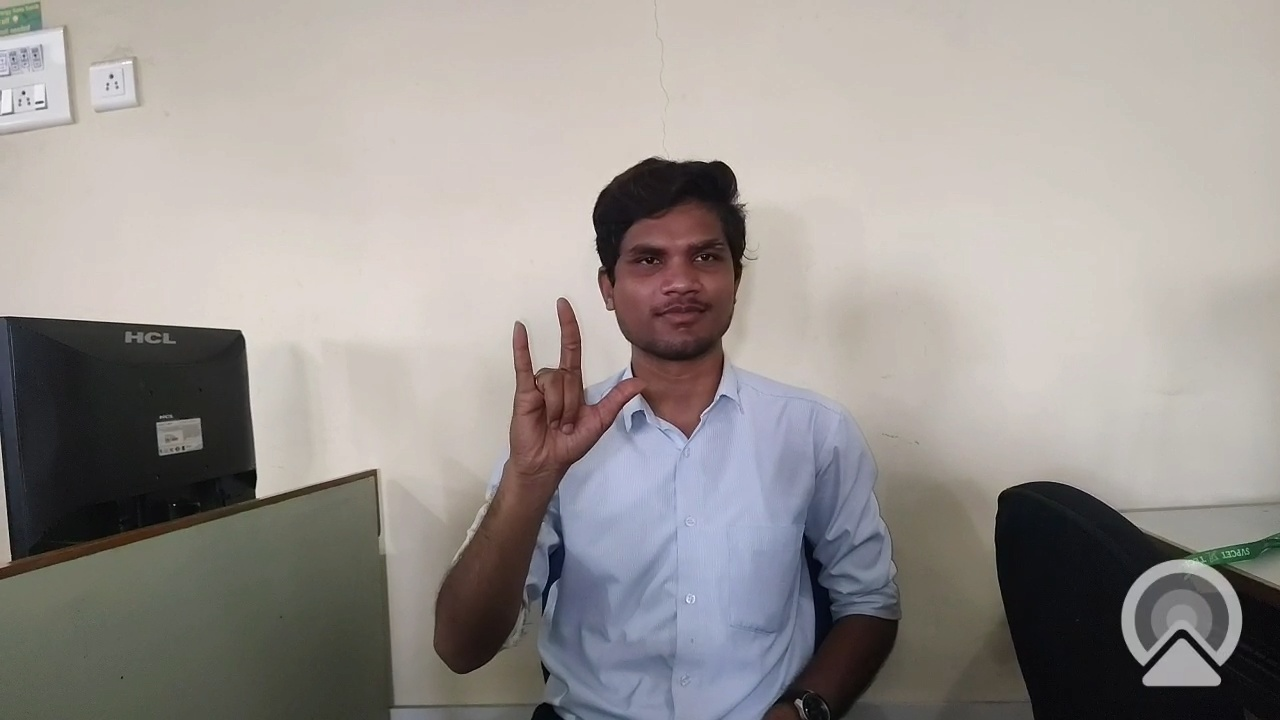I love you: (490, 287, 667, 489)
